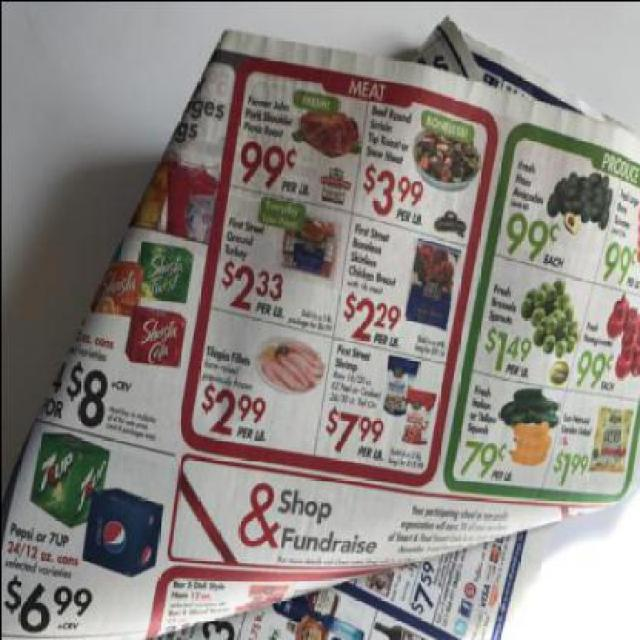PAPER: (1, 16, 638, 638)
